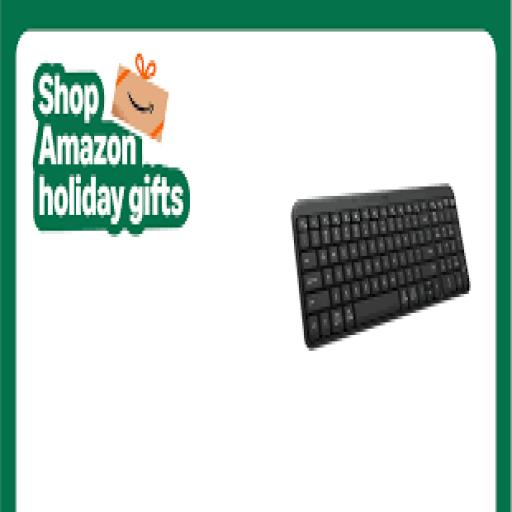KEYBOARD-2: (294, 183, 469, 344)
